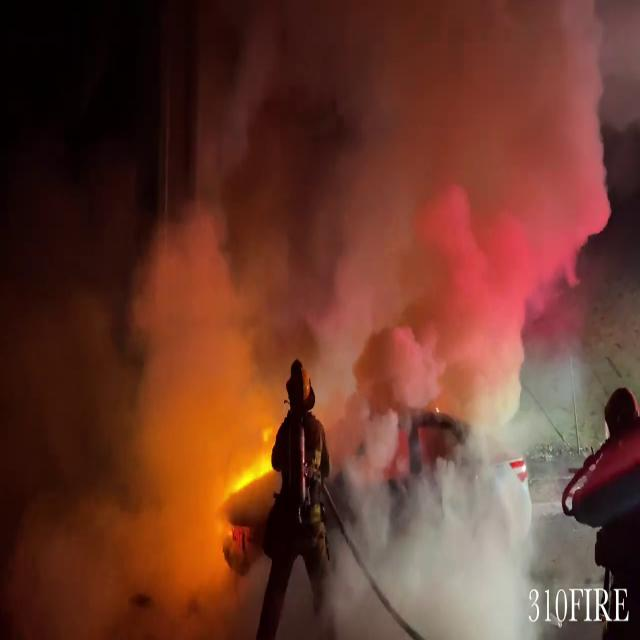Fire: (210, 416, 278, 556)
Smoke: (4, 1, 608, 599)
